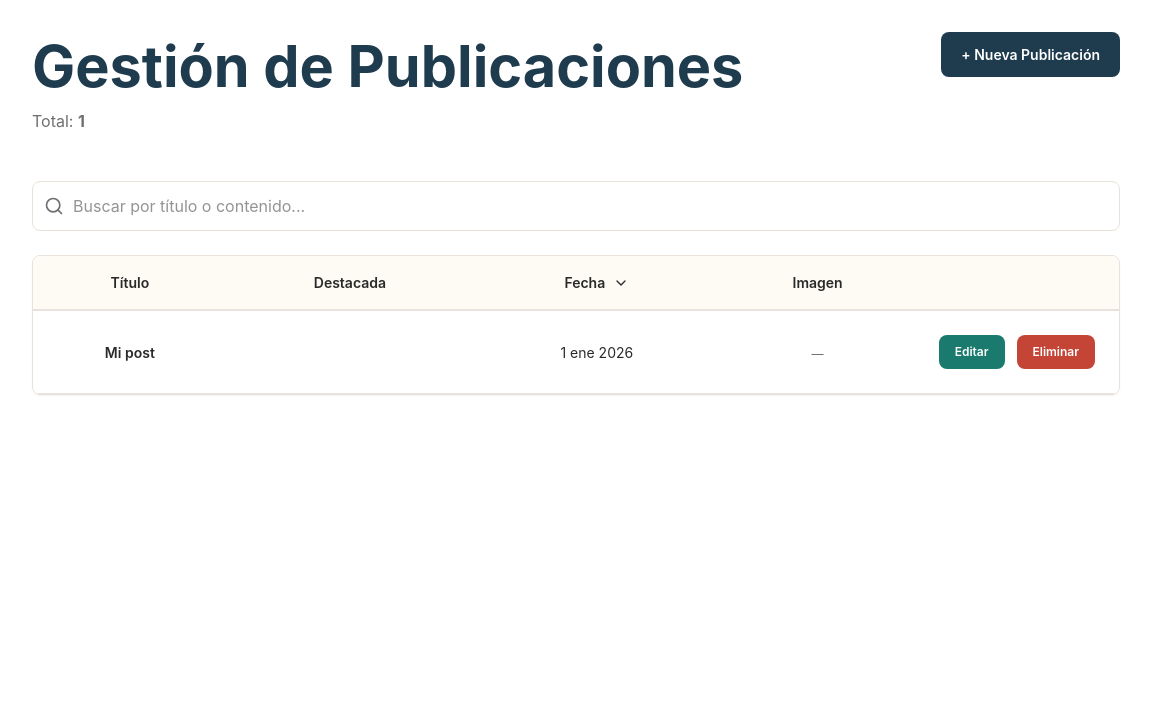
Scenario: delete modal › opens confirmation modal on delete click
The image size is (1152, 720).
Click the button "Eliminar".
click(1056, 352)  # box [1016, 335, 1095, 369]
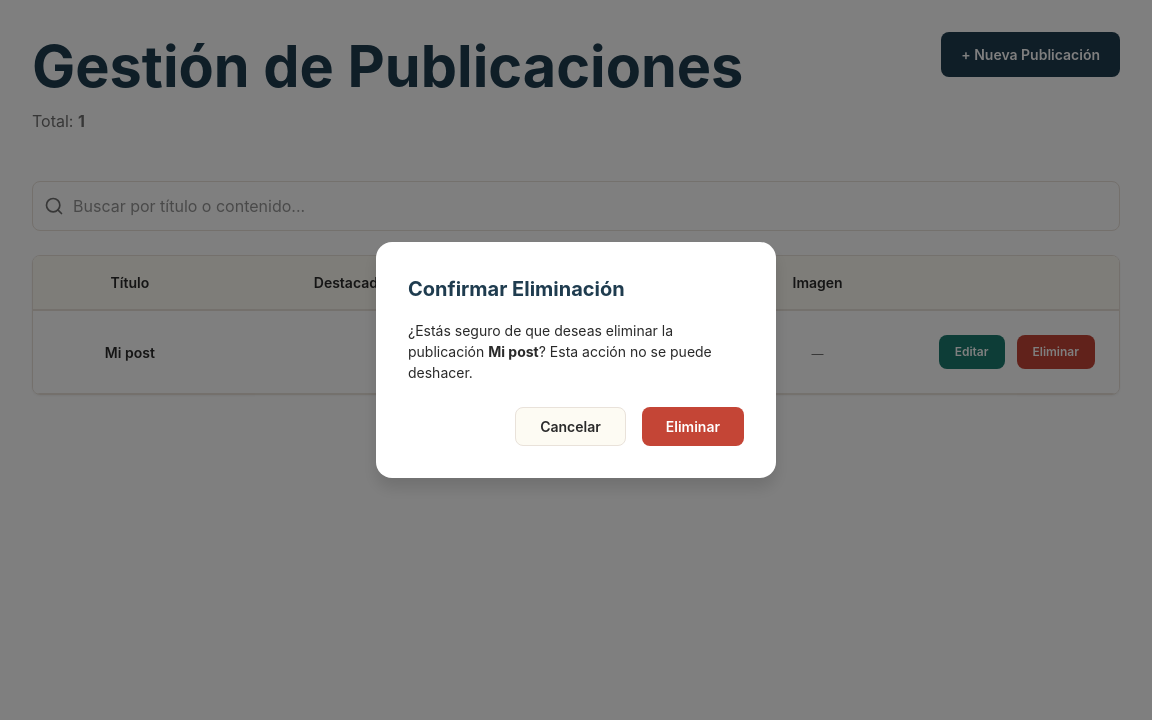
Expected: the text "Mi post" is shown, [33, 310, 227, 394]
Expected: the heading "Confirmar Eliminación" is shown, [408, 277, 625, 301]
